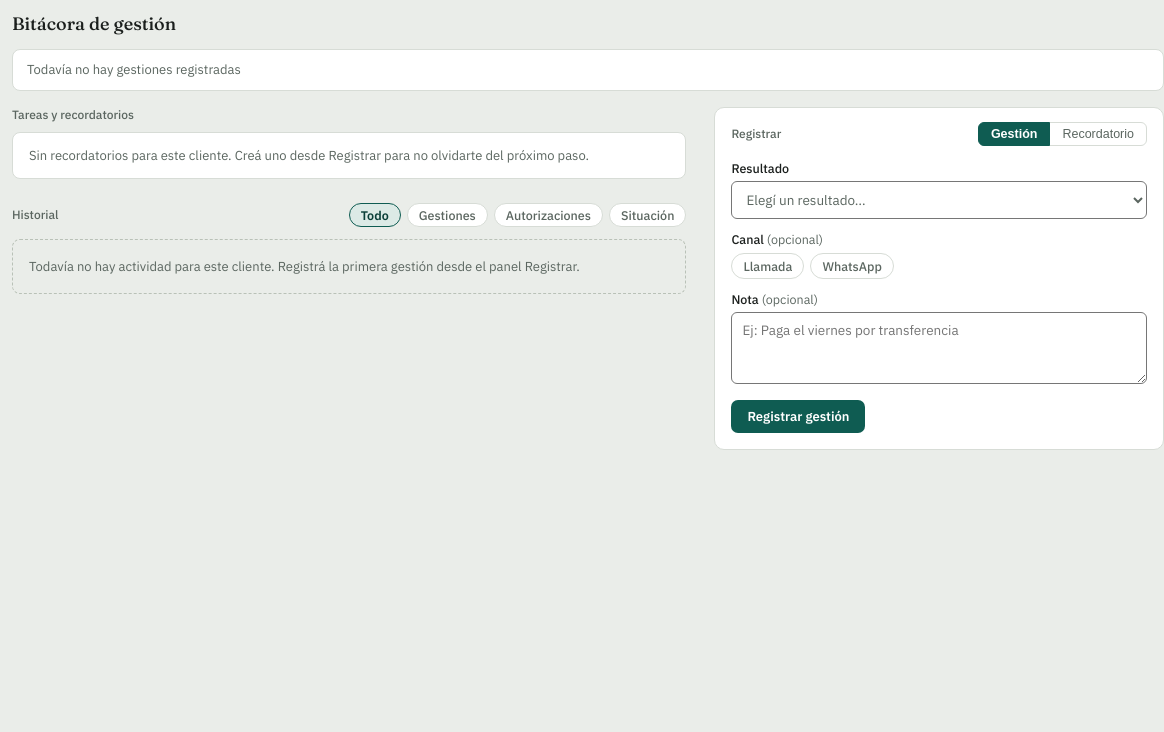
Test case: Gestión con 'Pago coordinado' y cobranza_programada › fecha anterior a hoy: error y no envía
The image size is (1164, 732).
Expected: the button "Registrar gestión" is shown, [731,400,866,432]
Select "Pago coordinado" in the dropdown labelled "Resultado" at (939, 200), box [731,180,1147,218]
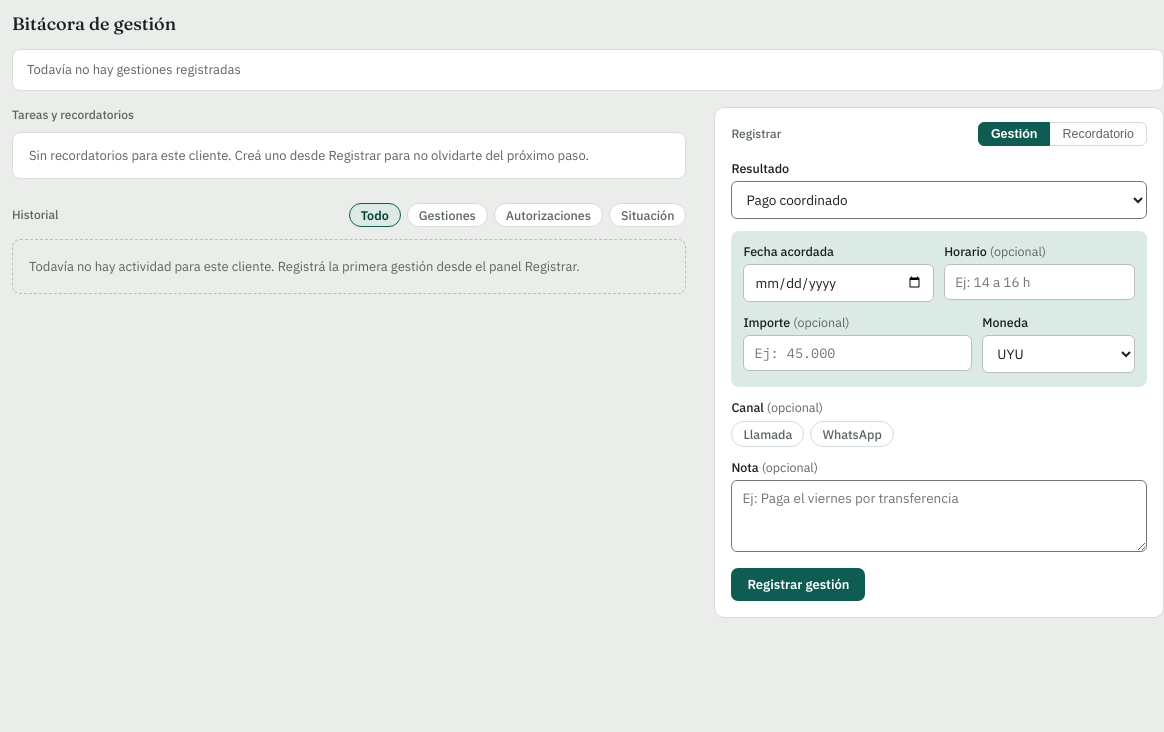
Type "2026-10-14" into the date field labelled "Fecha acordada" at (839, 282), box [743,264,934,302]
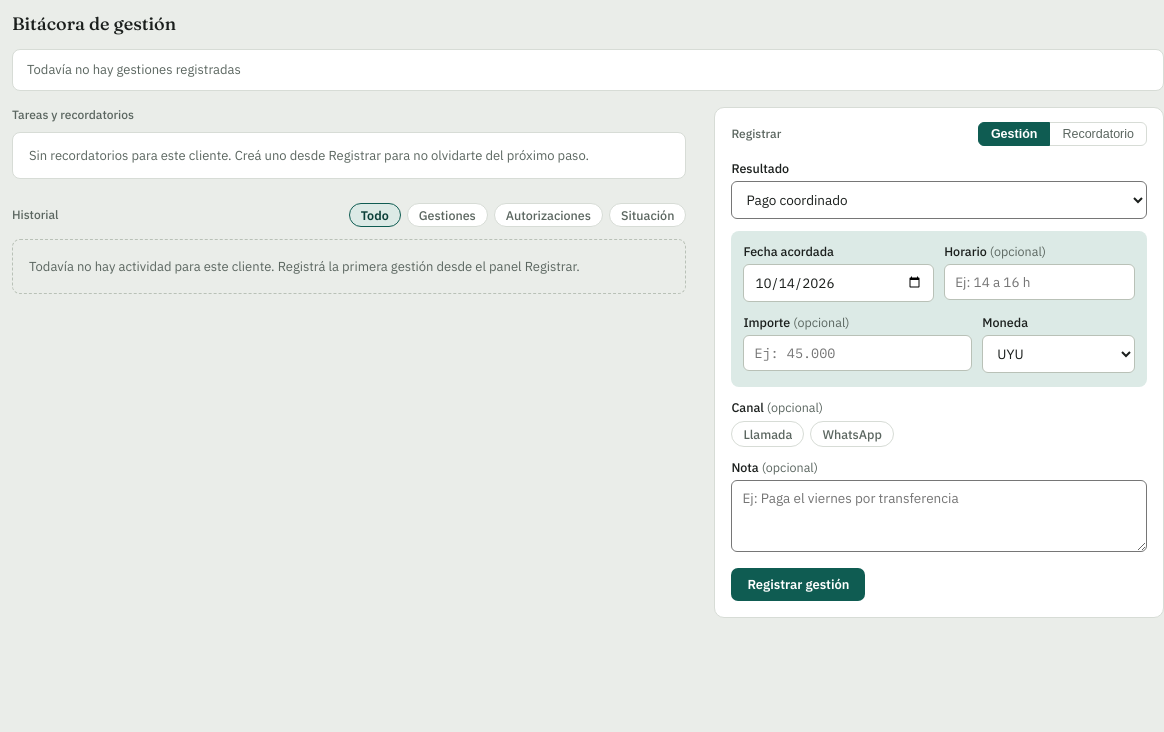
Click the button "Registrar gestión" at (798, 584), box [731,568,866,600]
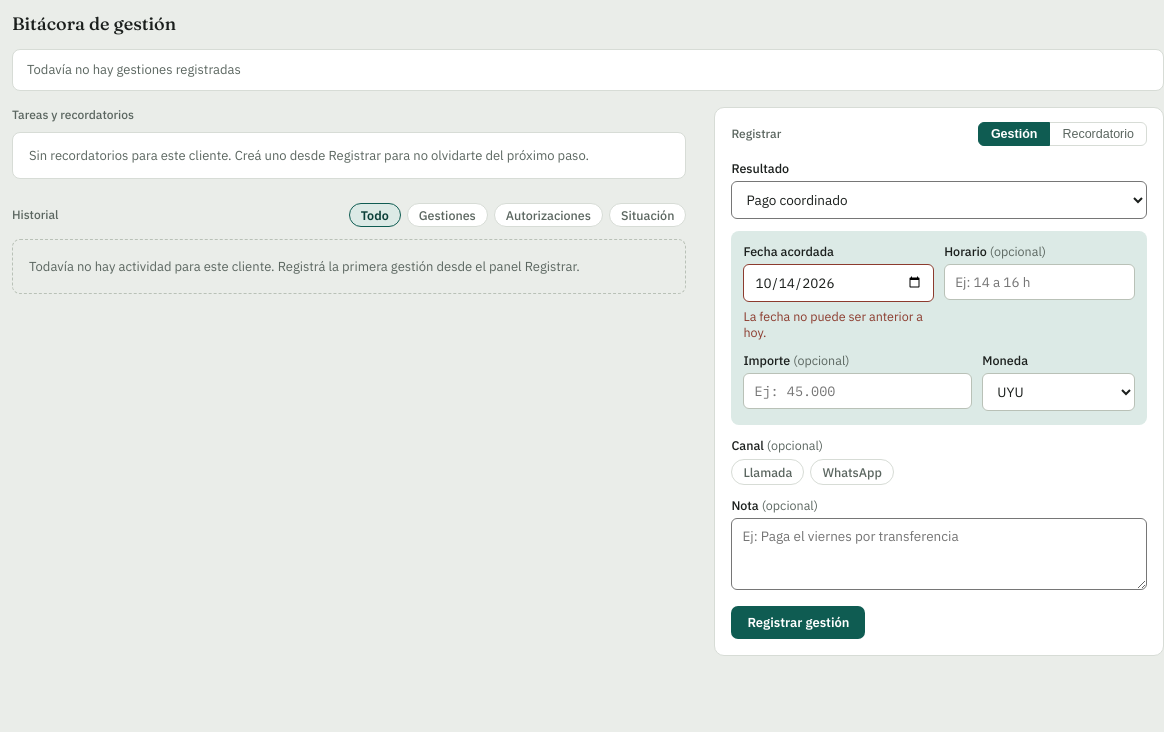
Result: the text "La fecha no puede ser anterior a hoy." is shown at [743,308,934,340]
